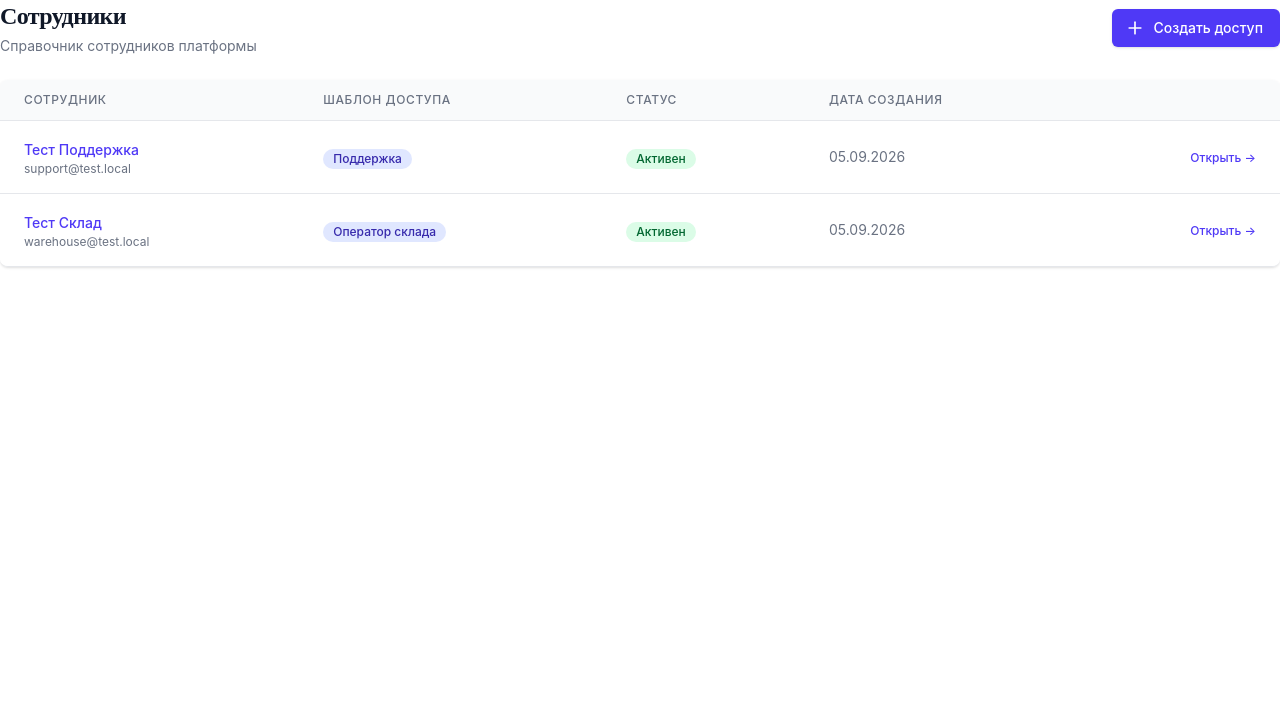
it: EMP.1D3B — Clean Staff List Into Employee Directory › O: [Создать доступ] remains available for authorized users
Expected: the link "Тест Поддержка" is shown, 24,141 -> 139,158
Click the button "Создать доступ": point(1196, 28) 1112,9 -> 1279,47
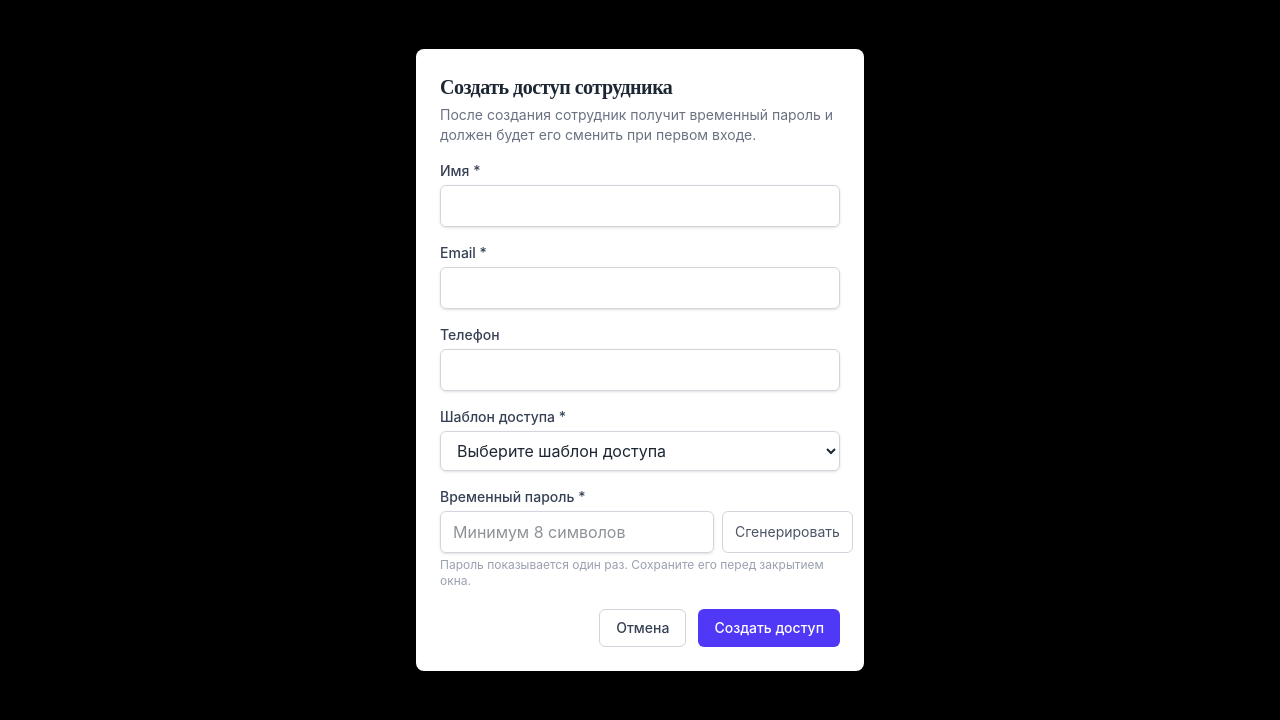
Expected: the heading "Создать доступ сотрудника" is shown, 440,76 -> 672,98
